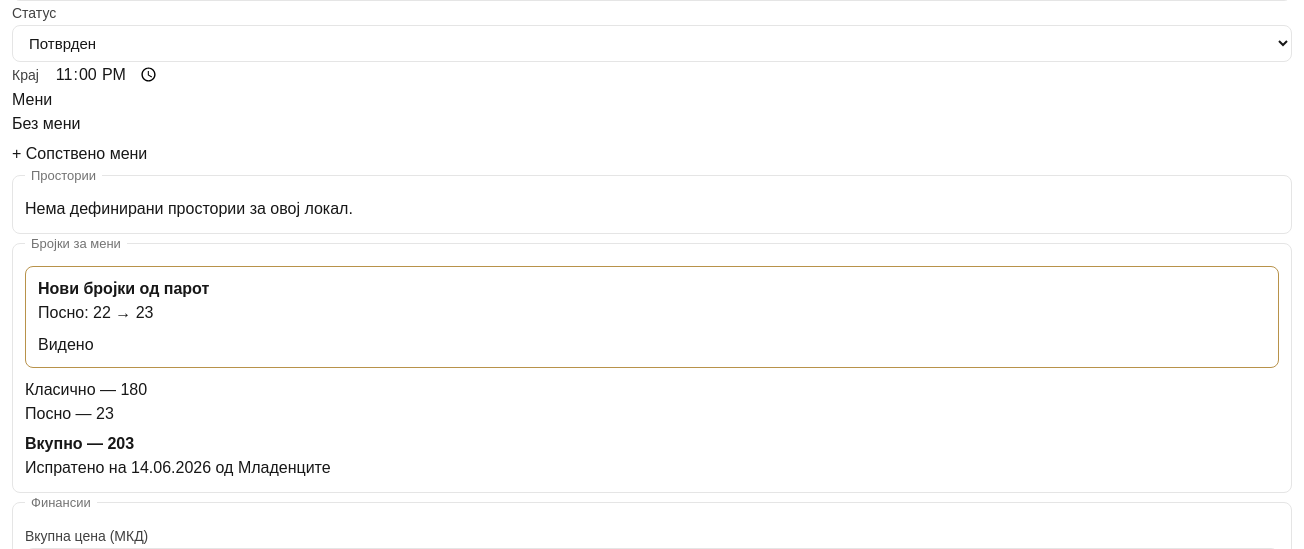
Test: EventEditForm custom menu › Бројки за мени › a 409 (newer numbers arrived) shows the message and reloads
(page scrolled)
Click the button "Видено" at (66,344), box [38,332,94,356]
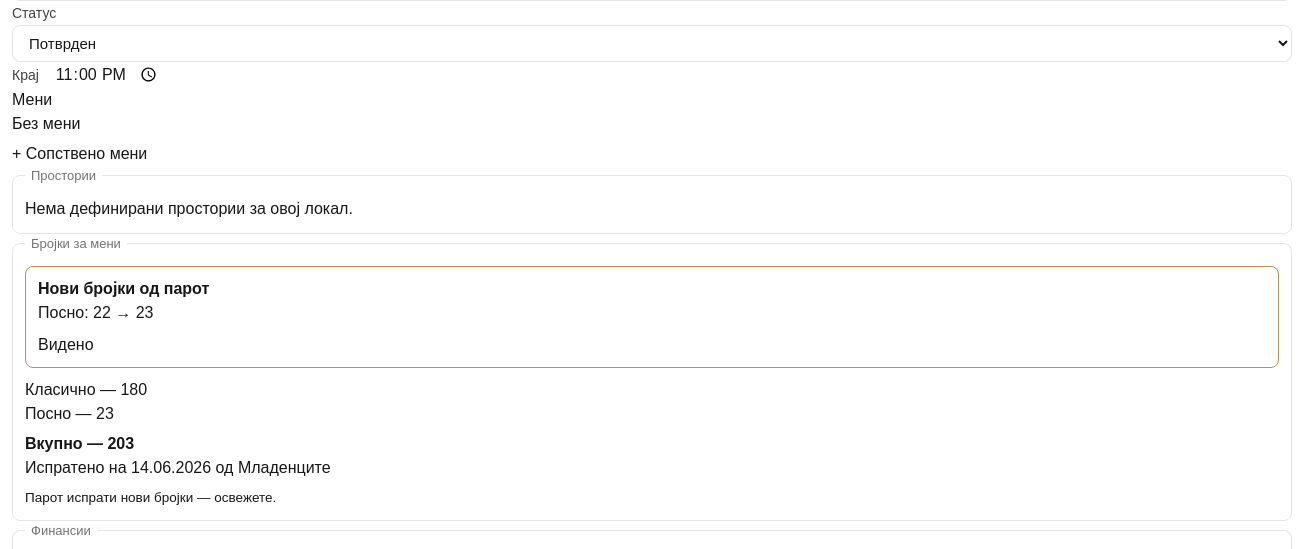
Now the text "Парот испрати нови бројки — освежете." is shown, box [25,490,276,504]
